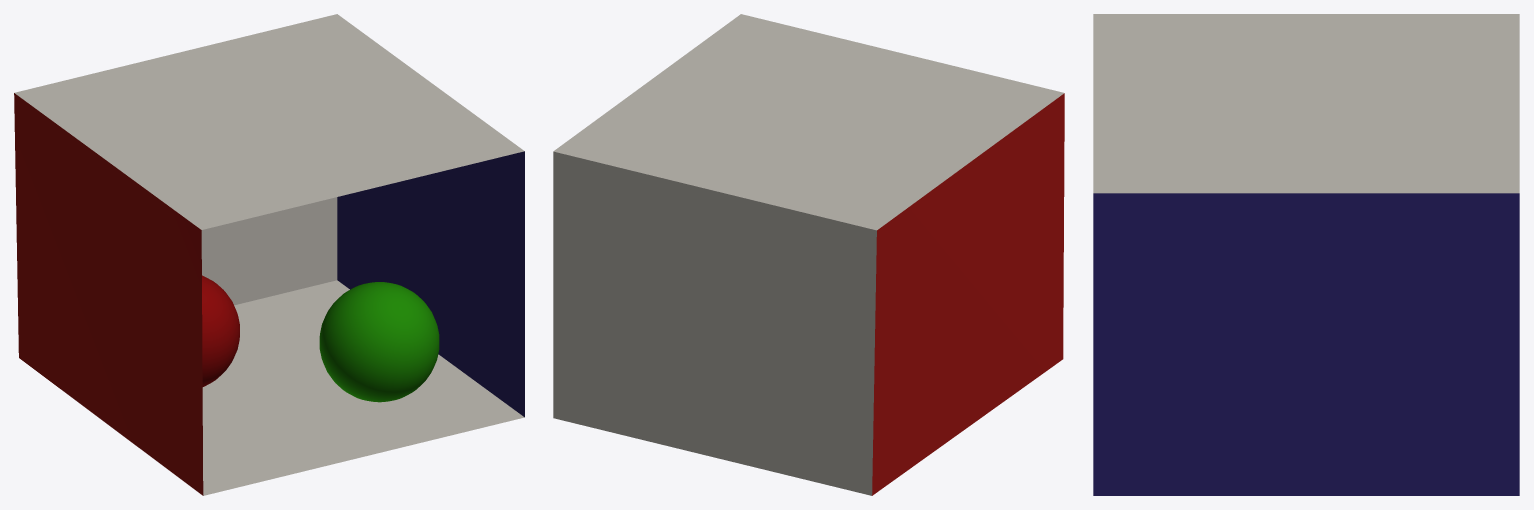
The model's file is cornell-box.obj.
3 views of the same model, side by side, from view 1: azimuth 30°, elevation 25°; view 2: azimuth 150°, elevation 25°; view 3: azimuth 270°, elevation 25° (orthographic). The views are drawn at different scales.
Visible parts, largest first — view 1: ceiling, leftWall, floor, rightWall, rightSphere, backWall, leftSphere; view 2: backWall, ceiling, leftWall; view 3: rightWall, ceiling.
Part boxes in pixels (x1=…): ceiling: x1=14, y1=14, x2=524, y2=229; leftWall: x1=14, y1=93, x2=203, y2=495; floor: x1=202, y1=280, x2=524, y2=495; rightWall: x1=337, y1=151, x2=524, y2=417; rightSphere: x1=319, y1=282, x2=439, y2=402; backWall: x1=201, y1=197, x2=337, y2=305; leftSphere: x1=202, y1=275, x2=239, y2=386; backWall: x1=553, y1=151, x2=876, y2=495; ceiling: x1=553, y1=14, x2=1064, y2=230; leftWall: x1=872, y1=93, x2=1064, y2=495; rightWall: x1=1093, y1=193, x2=1519, y2=495; ceiling: x1=1093, y1=14, x2=1519, y2=193.
Size of the model in its own units: 2.02 by 1.59 by 2.03.
